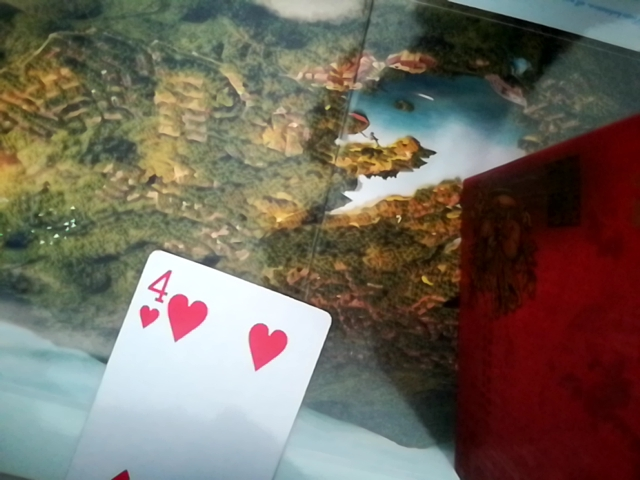hx 4: (41, 248, 333, 479)
